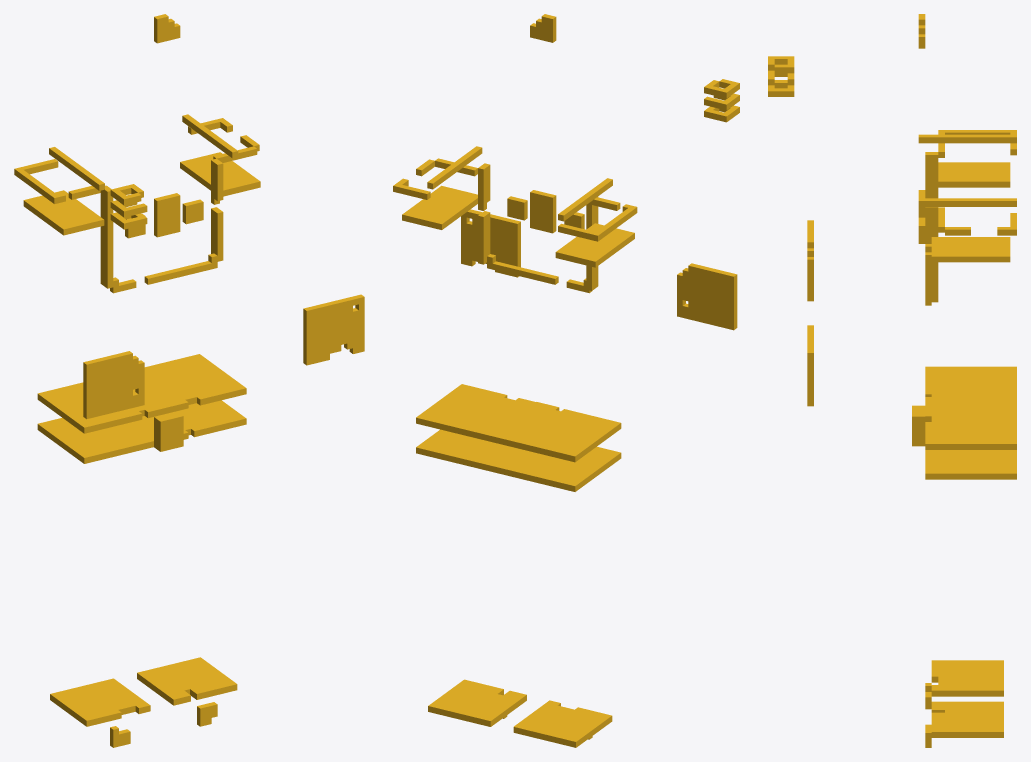
The model's file is Anubis_75-7.obj.
3 views of the same model, side by side, from view 1: azimuth 30°, elevation 25°; view 2: azimuth 150°, elevation 25°; view 3: azimuth 270°, elevation 25° (orthographic). The views are drawn at different scales.
Size of the model in its own units: 4.8 by 11.9 by 3.8.
Materials: 1 (1 with a texture image).
